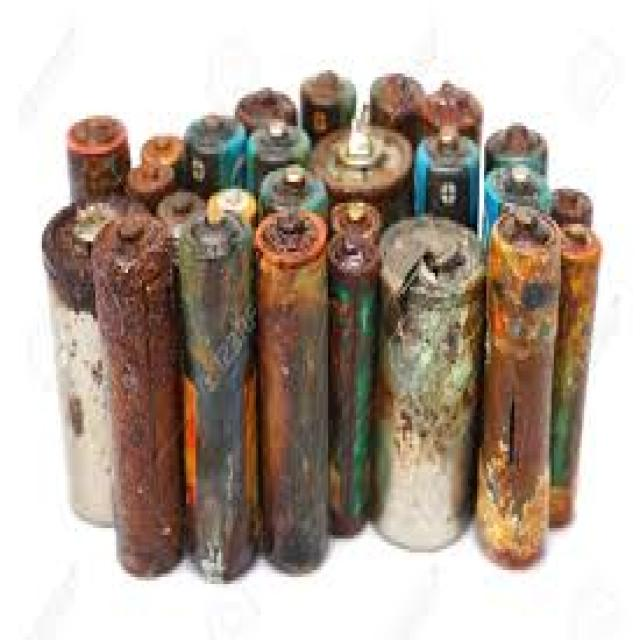battery: (42, 70, 598, 577)
